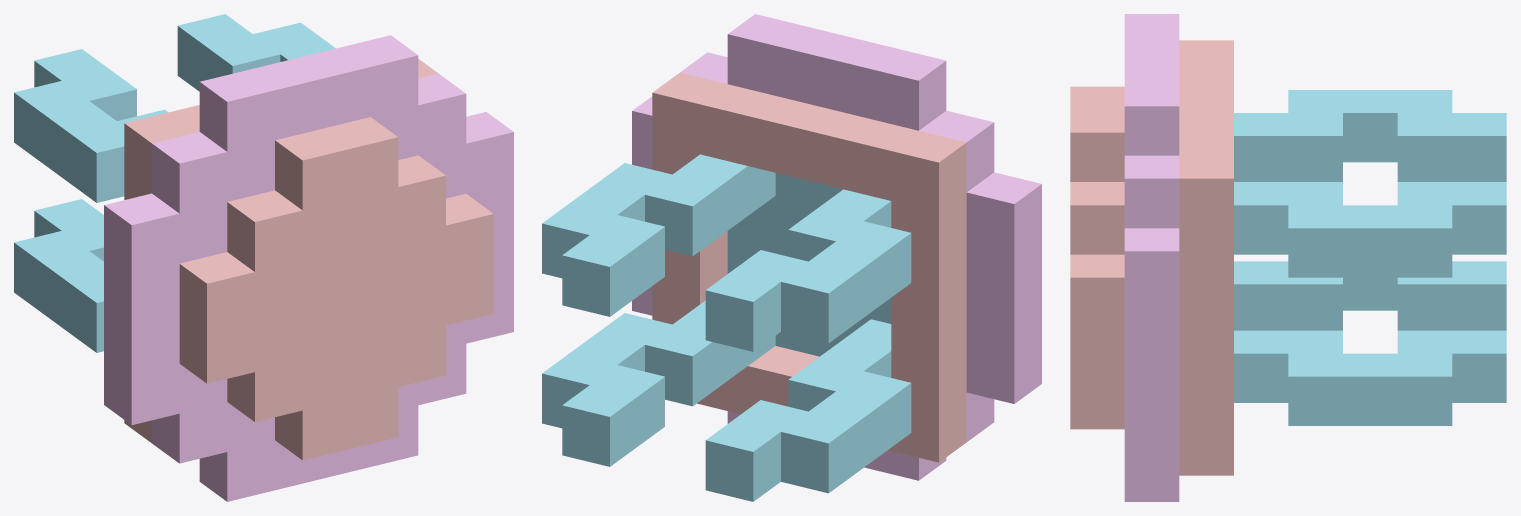
The model's file is OBJ_Jellyfish.obj.
3 renders of one model, left to right at view 1: azimuth 30°, elevation 25°; view 2: azimuth 150°, elevation 25°; view 3: azimuth 270°, elevation 25°, orthographic.
Size of the model in its own units: 0.8 by 0.8 by 0.8.
1 material, 1 textured.
